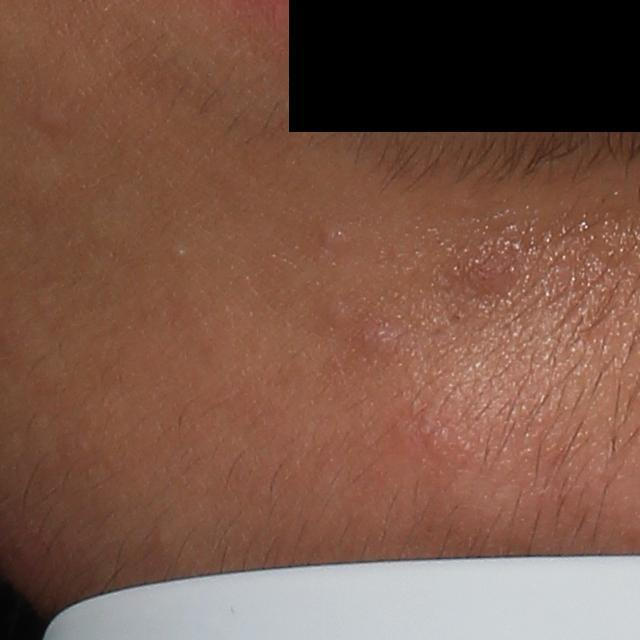comedo: (29, 100, 66, 132), (324, 293, 352, 328), (323, 226, 350, 250), (172, 247, 188, 259)
